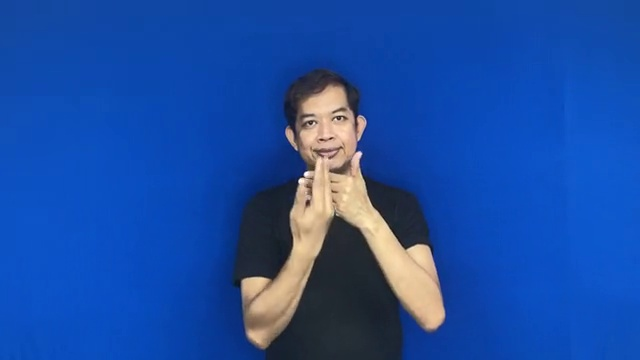bread: (274, 147, 388, 253)
